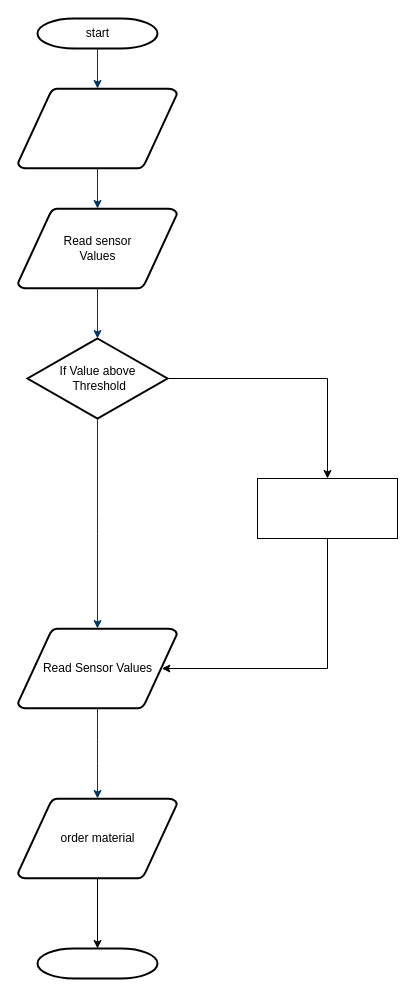
The diagram is 415 pixels wide and 996 high, and some of its shapes have lost their labels. The shapes that lost their labels are listed below. From the top down, each one's centre as x and y in pixels, then its label:
the point at 97,128: Initialize device Calibrate Sensor
the point at 327,508: Perform Control
the point at 97,963: end
